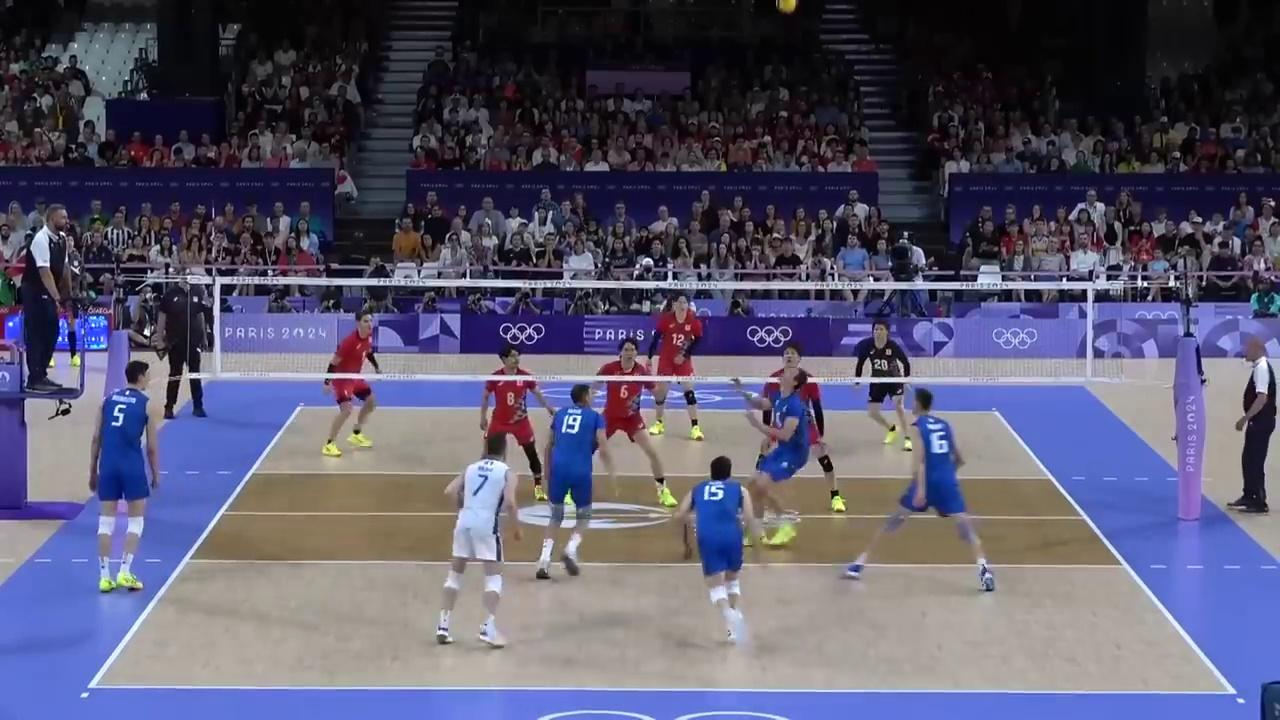ball: (778, 1, 798, 11)
